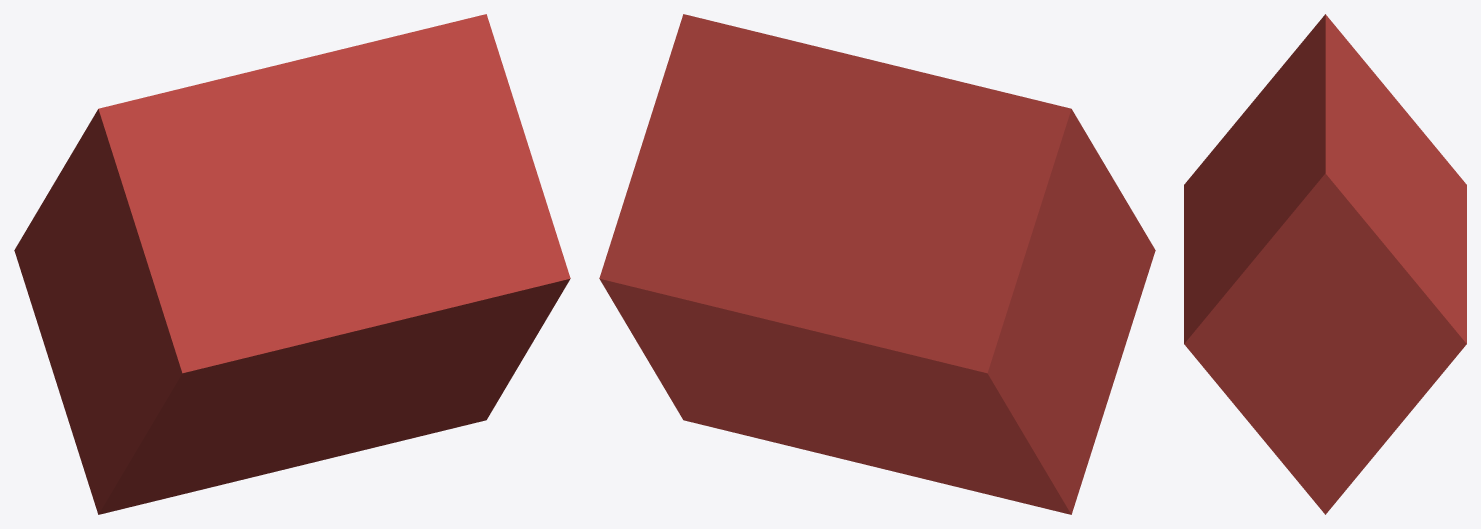
The model's file is pivot_lod2.glb.
3 renders of one model, left to right at view 1: azimuth 30°, elevation 25°; view 2: azimuth 150°, elevation 25°; view 3: azimuth 270°, elevation 25°, orthographic. The views are drawn at different scales.
Parts seen in each view (by area): view 1: pivot_lod2; view 2: pivot_lod2; view 3: pivot_lod2.
Part boxes in pixels (x1=…): pivot_lod2: x1=14, y1=14, x2=570, y2=514; pivot_lod2: x1=599, y1=14, x2=1155, y2=514; pivot_lod2: x1=1184, y1=14, x2=1466, y2=514.
Bounding box in the file's own units: 0.04 × 0.04 × 0.03.
